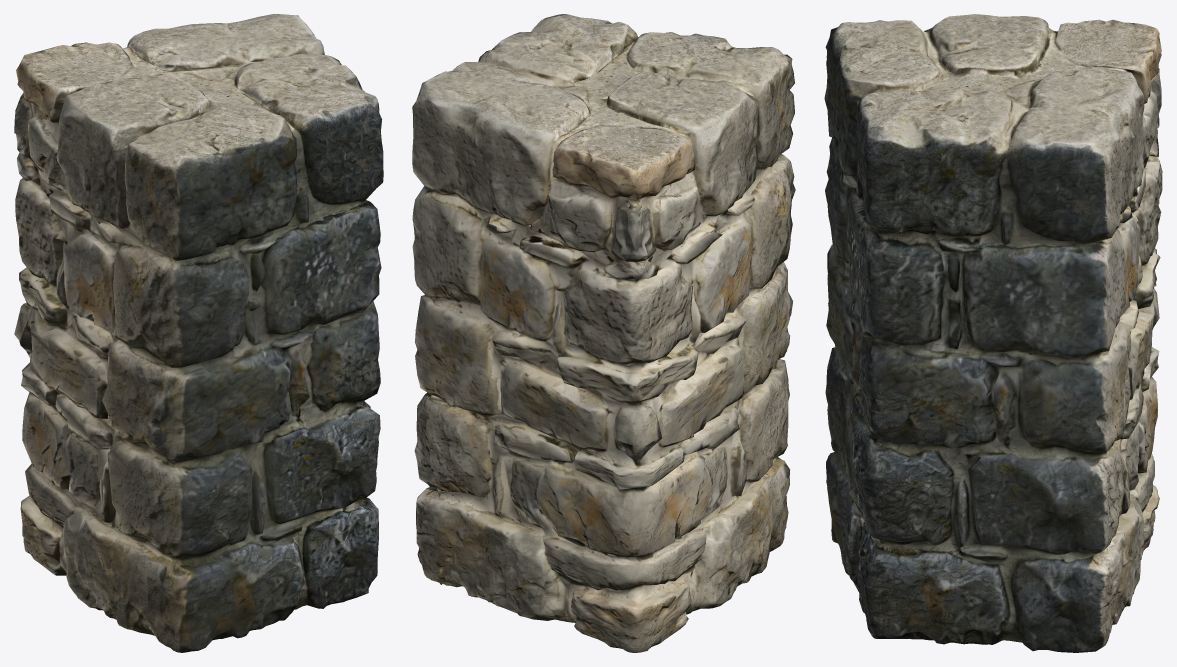
3 renders of one model, left to right at view 1: azimuth 30°, elevation 25°; view 2: azimuth 150°, elevation 25°; view 3: azimuth 270°, elevation 25°, orthographic. The views are drawn at different scales.
Visible parts, largest first — view 1: tripo_node_f13661d6-e0b4-4631-9528-80bac7a7b2d4; view 2: tripo_node_f13661d6-e0b4-4631-9528-80bac7a7b2d4; view 3: tripo_node_f13661d6-e0b4-4631-9528-80bac7a7b2d4.
Boxes of the visible parts, box(x1,y1,x2,y2) form: tripo_node_f13661d6-e0b4-4631-9528-80bac7a7b2d4: box(14, 14, 383, 652); tripo_node_f13661d6-e0b4-4631-9528-80bac7a7b2d4: box(412, 14, 795, 652); tripo_node_f13661d6-e0b4-4631-9528-80bac7a7b2d4: box(824, 14, 1162, 652).
Size of the model in its own units: 0.5588 by 0.9814 by 0.5824.
Materials: 1 (1 with a texture image).
